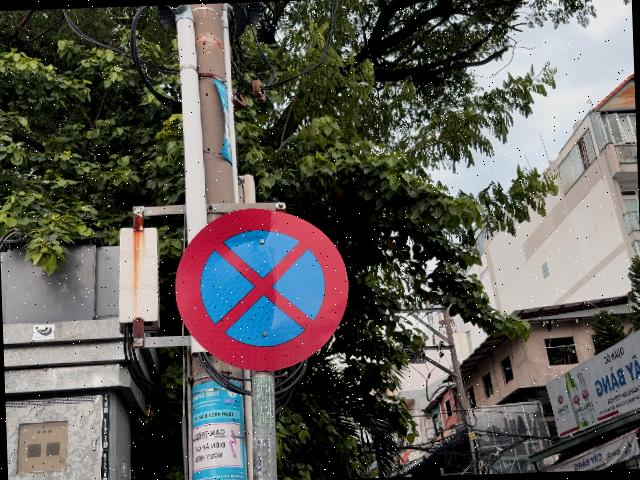cam-dung-va-do-xe: (170, 204, 350, 374)
